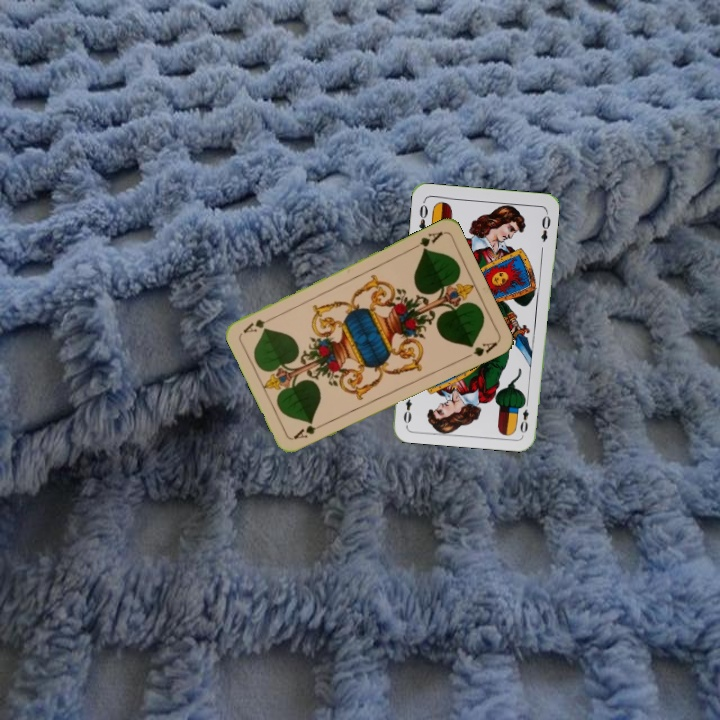EO: (516, 395, 531, 435), (415, 198, 430, 234)
GA: (407, 227, 445, 253), (289, 419, 328, 442)
